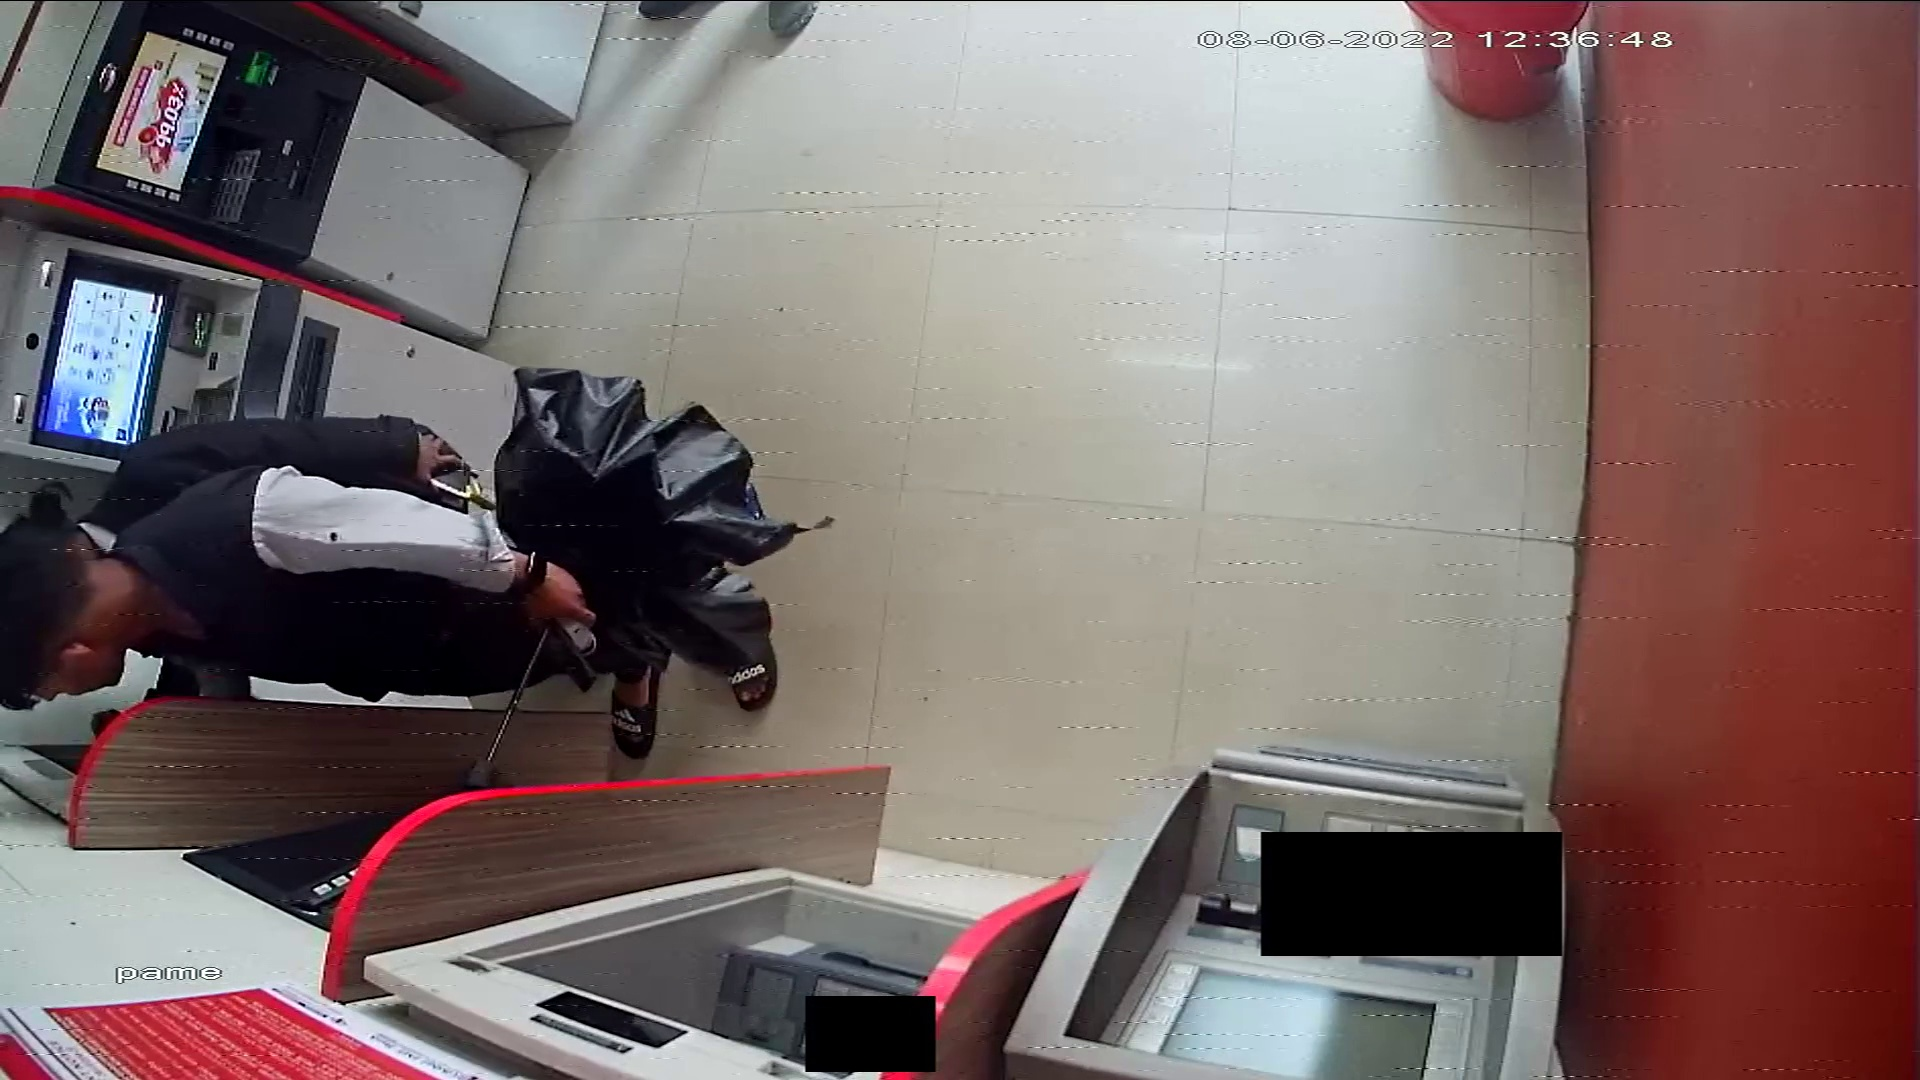person: (1, 413, 780, 756)
